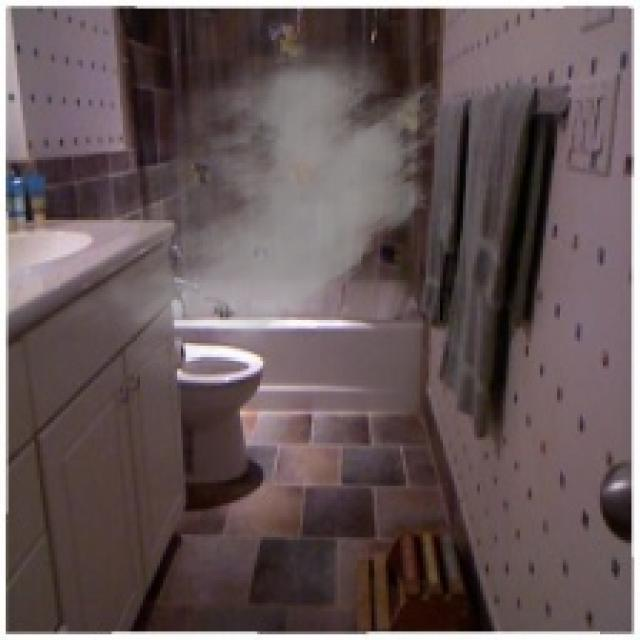Smoke: (46, 26, 454, 380)
